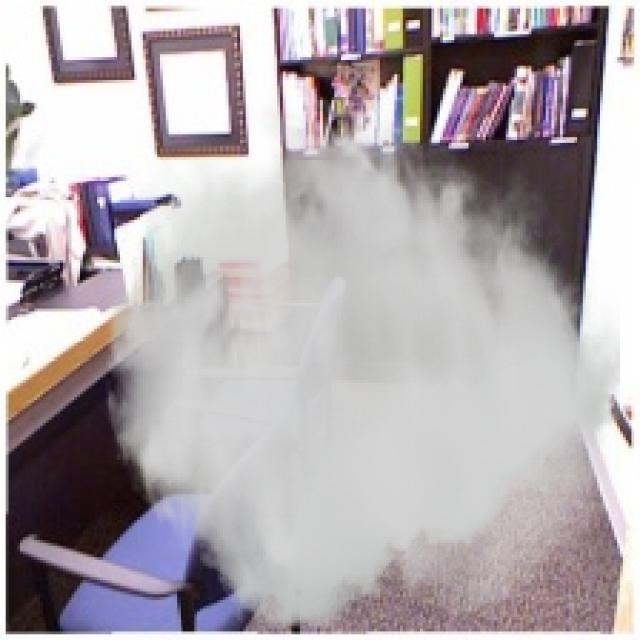smoke: (100, 94, 620, 629)
